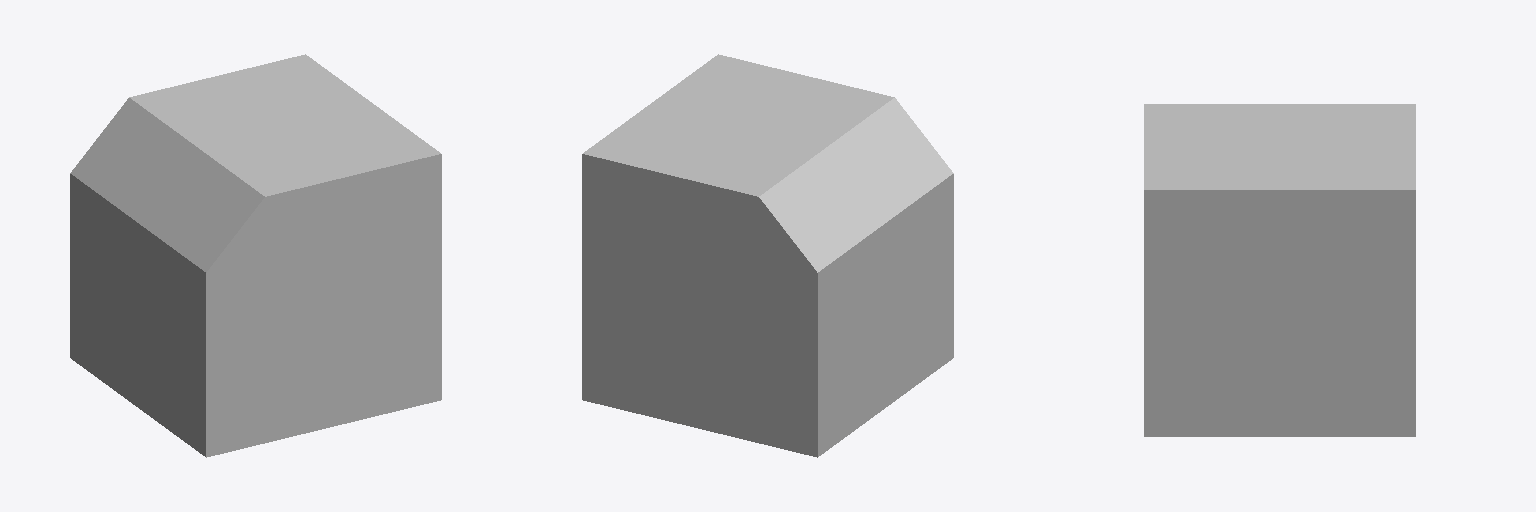
Rendered from slope100Shave12Base12.obj.
The picture shows the model from 3 angles: view 1: azimuth 30°, elevation 25°; view 2: azimuth 150°, elevation 25°; view 3: azimuth 270°, elevation 25°; orthographic projection.
Size of the model in its own units: 1 by 1 by 1.